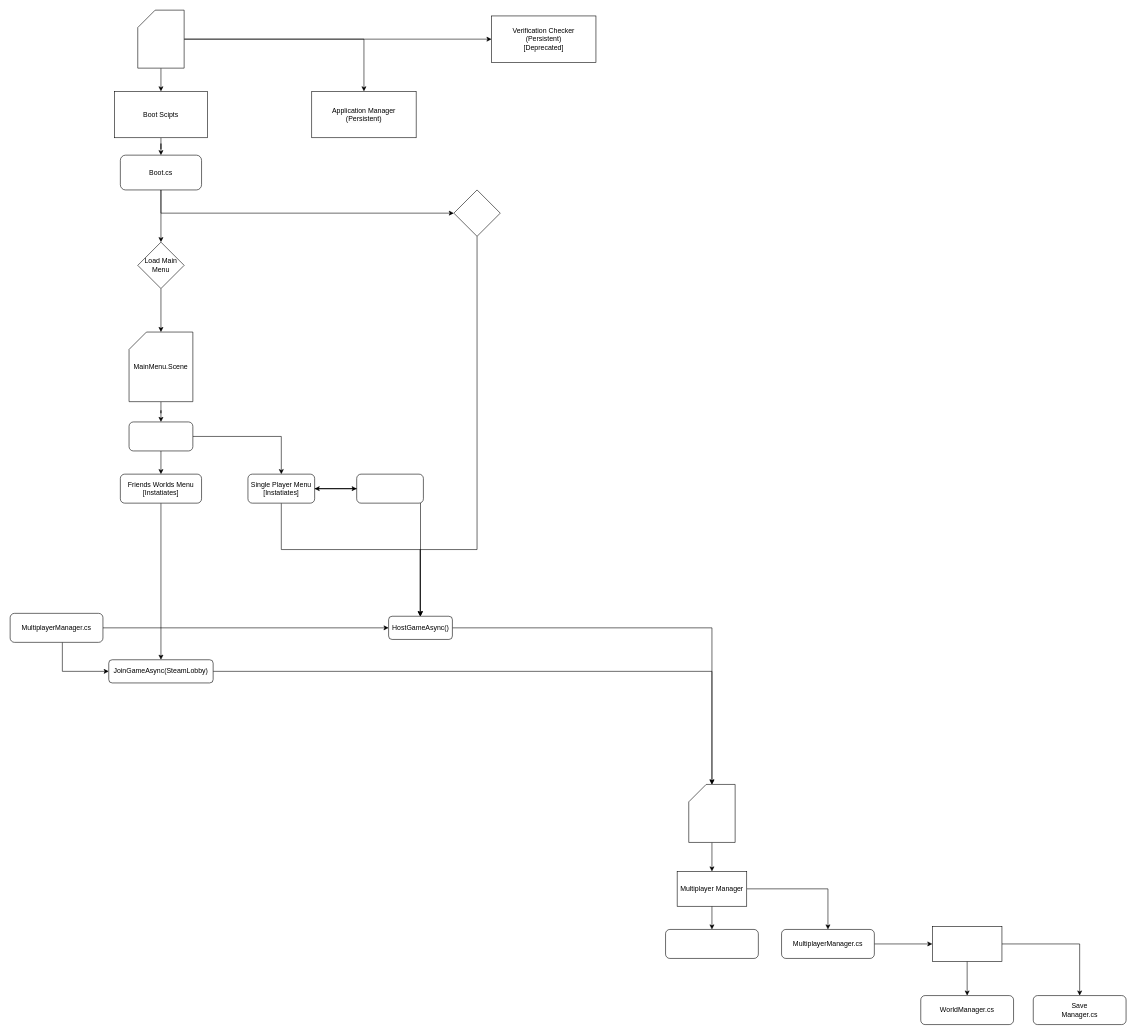
The diagram is 1136 pixels wide and 1035 high, and some of its shapes have lost their labels. Each missing label, with the centre of its shape:
"Boot.Scene" goes at point (160, 39).
"Create World Menu [Instatiates]" goes at point (389, 488).
"Game.Scene" goes at point (711, 813).
"Load Test world" goes at point (476, 212).
"MainMenu" goes at point (160, 436).
"Steamworks.net Transport" goes at point (711, 943).
"World Manager" goes at point (967, 943).
